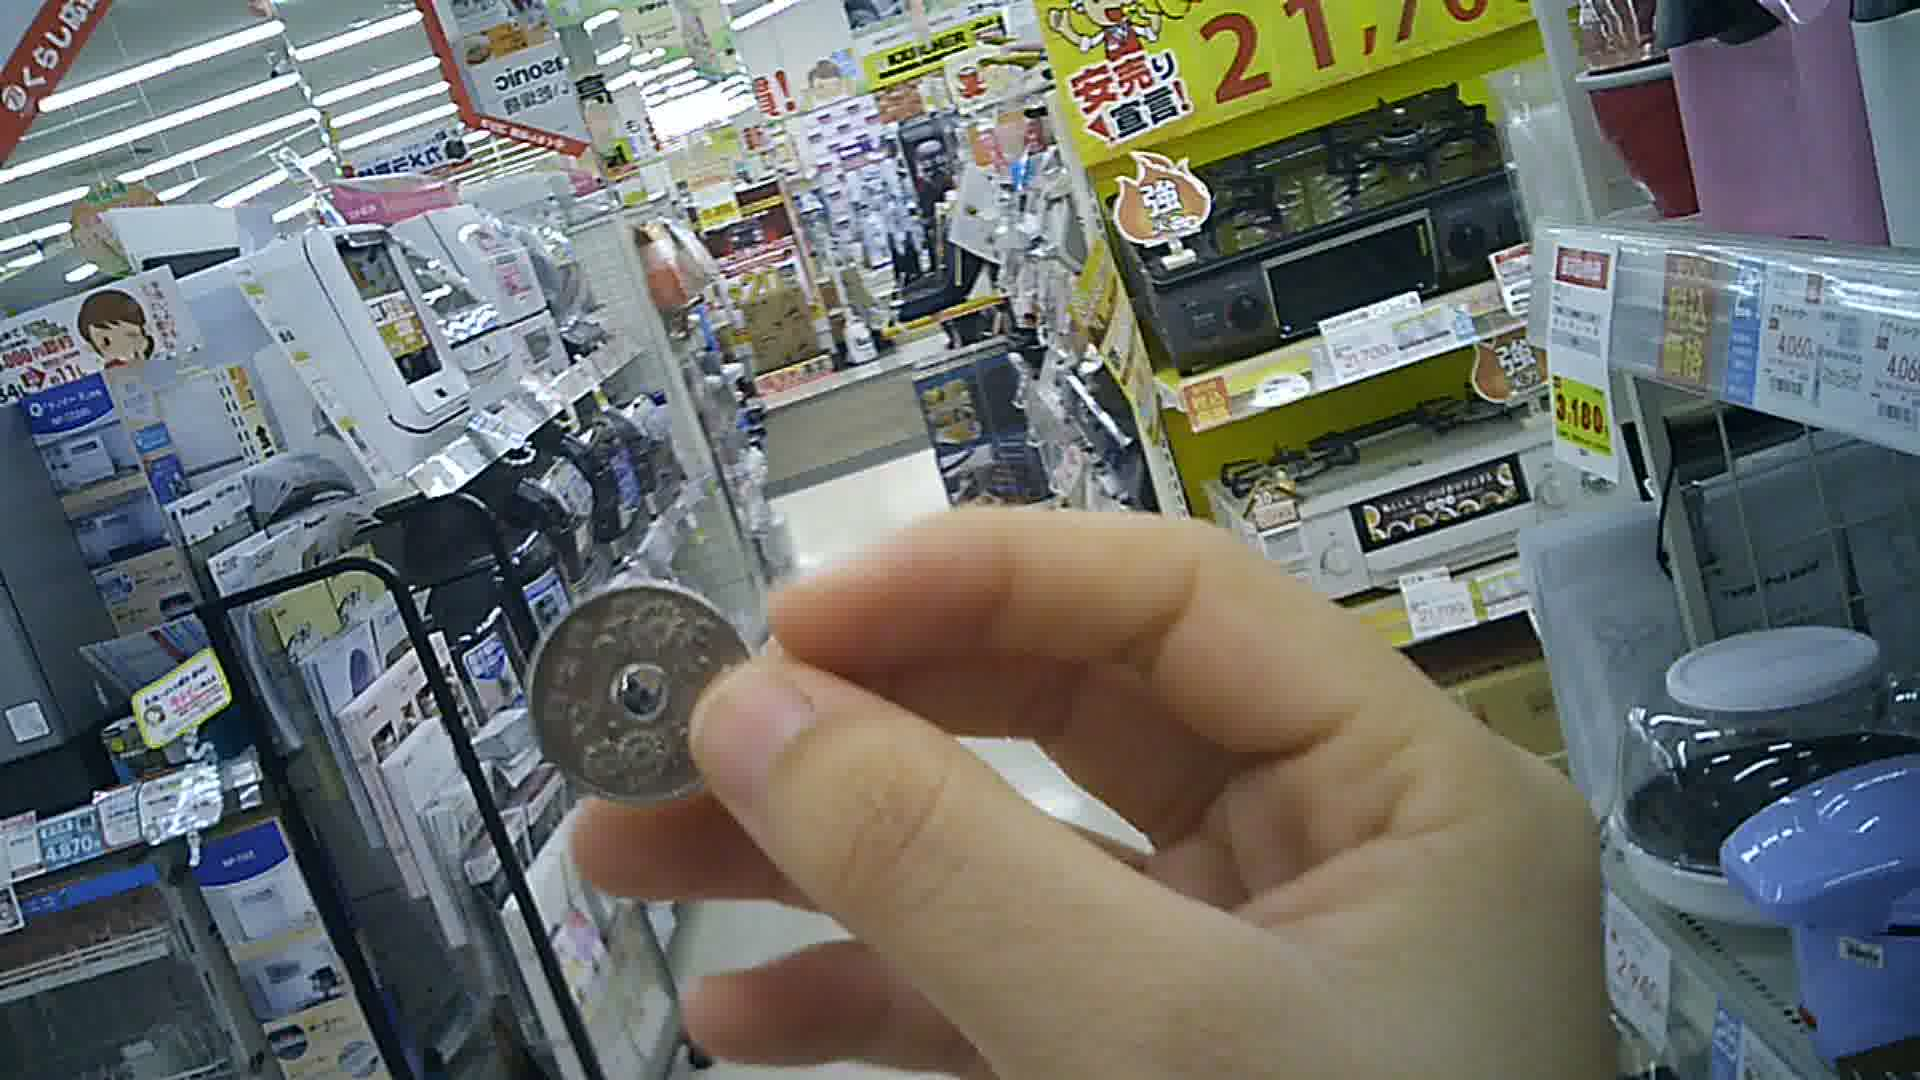50 Yen: (517, 582, 767, 810)
